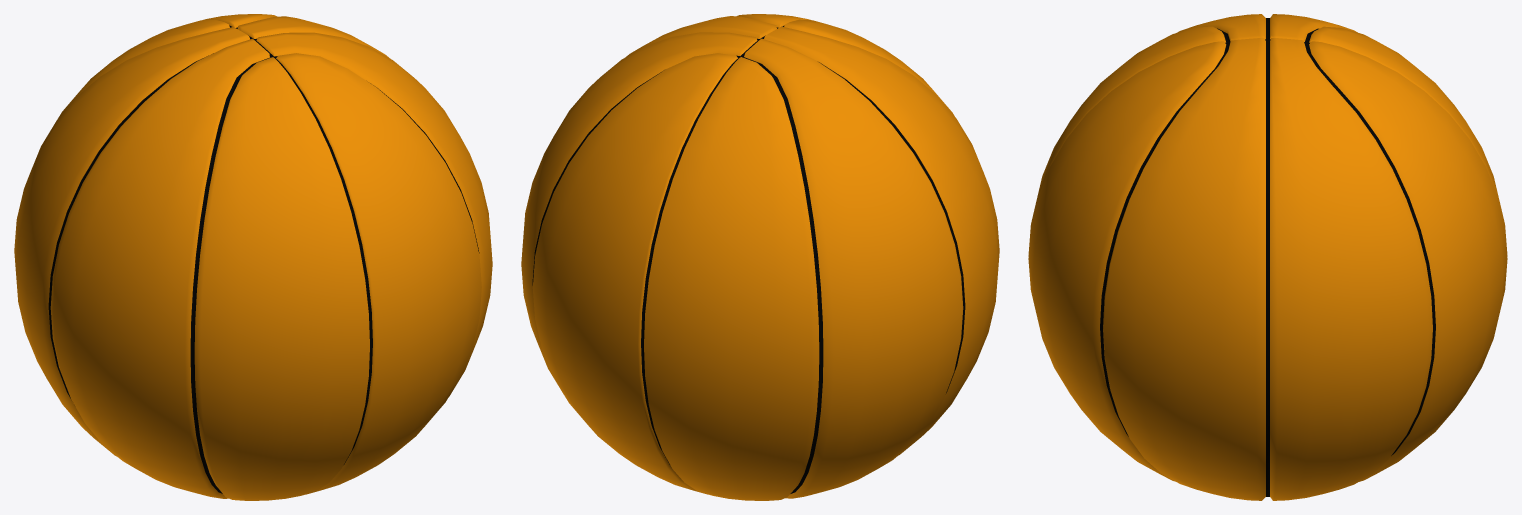
Rendered from Basketball.fbx.
3 renders of one model, left to right at view 1: azimuth 30°, elevation 25°; view 2: azimuth 150°, elevation 25°; view 3: azimuth 270°, elevation 25°, orthographic.
Visible parts, largest first — view 1: pSphere1; view 2: pSphere1; view 3: pSphere1.
Part boxes in pixels (x1,y1,x2,y2): pSphere1: (14, 14, 492, 500); pSphere1: (521, 14, 999, 500); pSphere1: (1028, 14, 1507, 500).
Bounding box in the file's own units: 10.47 × 10.68 × 10.49.
